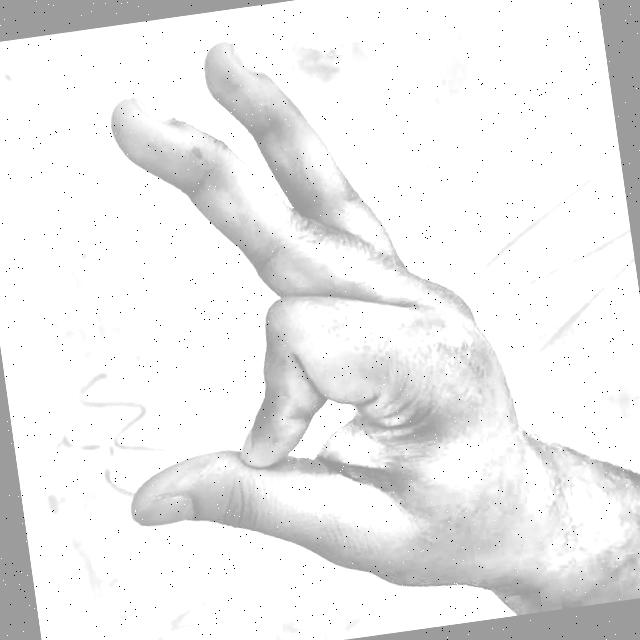Uo: (8, 0, 630, 640)
